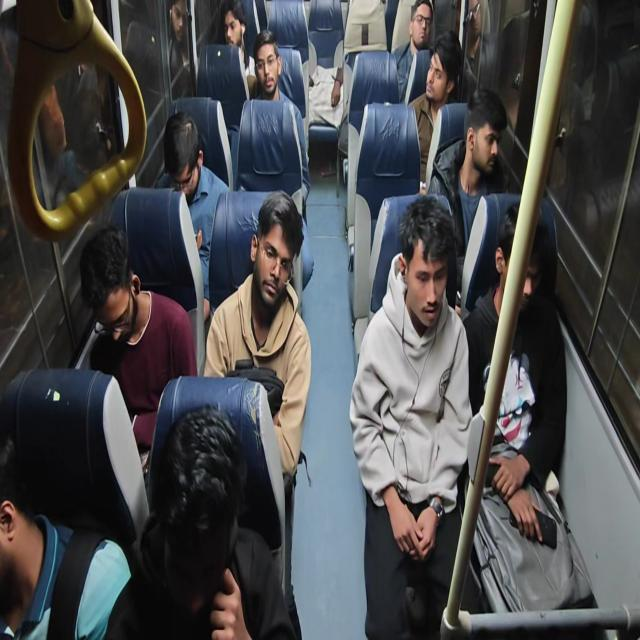person: (459, 200, 599, 616), (349, 193, 473, 638), (203, 190, 312, 636), (103, 402, 297, 639), (79, 224, 198, 475), (0, 435, 132, 639), (425, 86, 508, 305), (155, 110, 230, 320), (248, 29, 311, 202), (308, 0, 387, 128), (407, 29, 462, 190), (33, 82, 89, 210), (391, 0, 433, 102), (459, 0, 490, 102), (167, 0, 196, 99), (218, 0, 254, 79)
